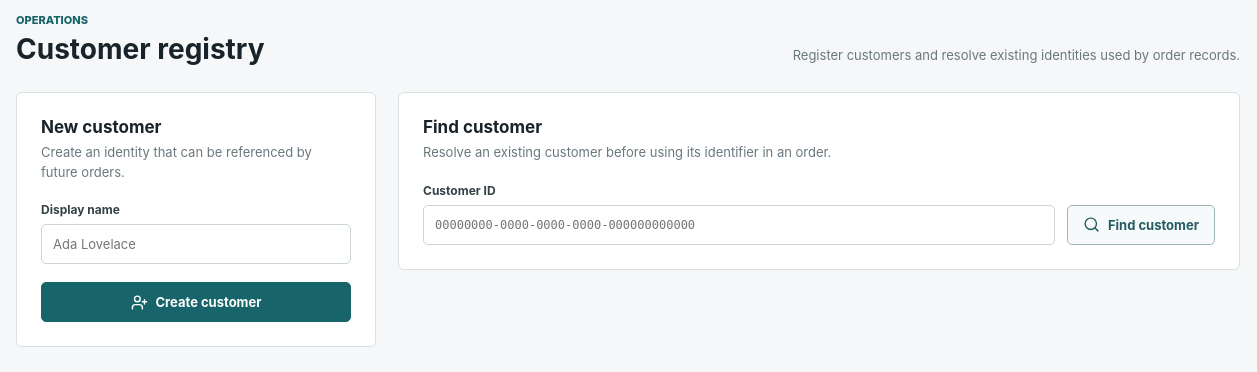
Test: customers page › validates an identifier before resolving the customer
Type "not-a-guid" into the field named "lookupCustomerId" at (739, 224), box [423,204,1055,244]
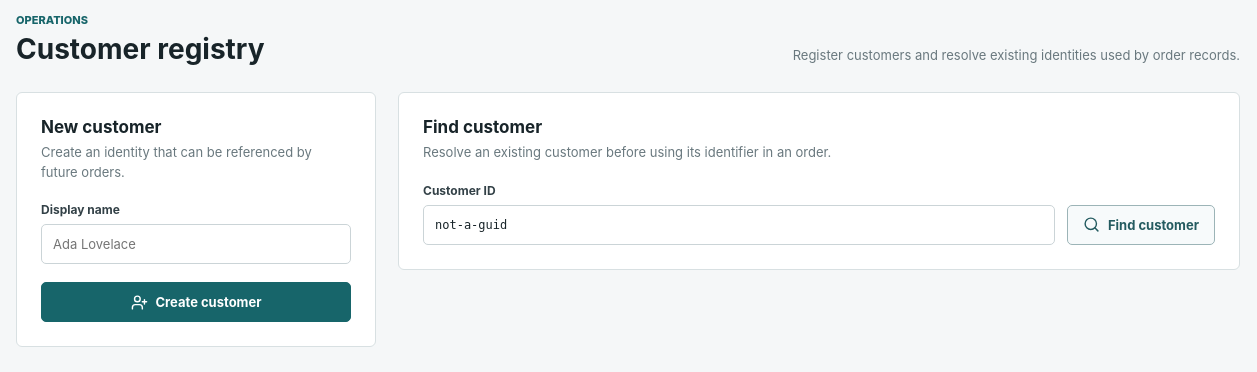
Submit the form with class "customer-lookup__form", box [423,182,1215,244]
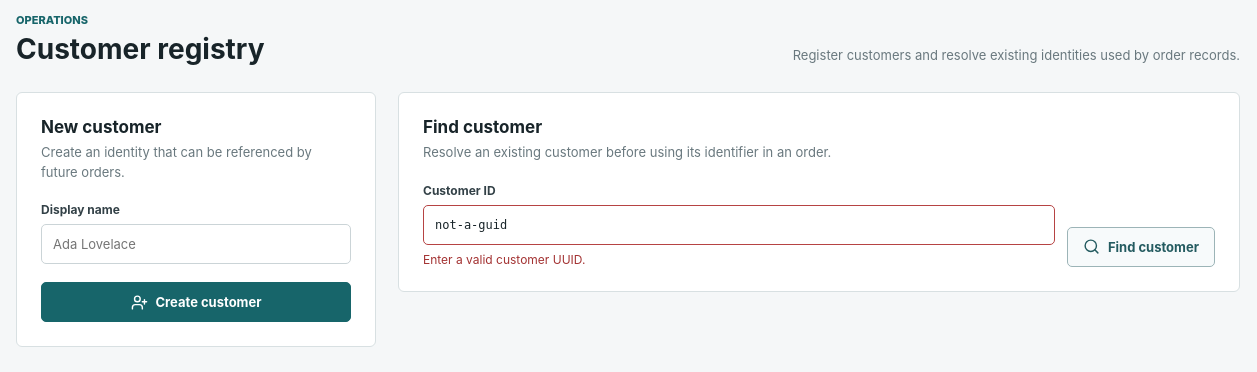
Expected: the text "Enter a valid customer UUID." is shown, [423,252,585,266]
Replace the text in the field named "lookupCustomerId" with "20000000-0000-4000-8000-000000000001" at (739, 224), box [423,204,1055,244]
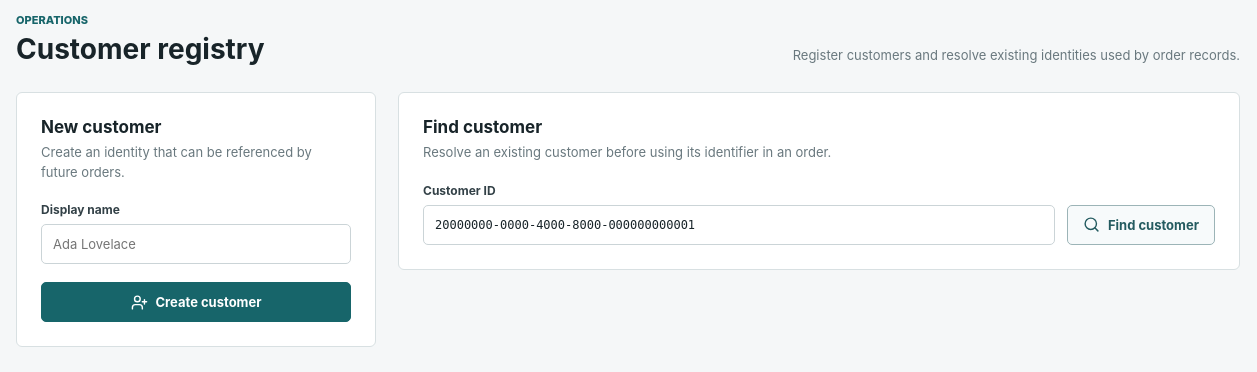
Submit the form with class "customer-lookup__form", box [423,182,1215,244]
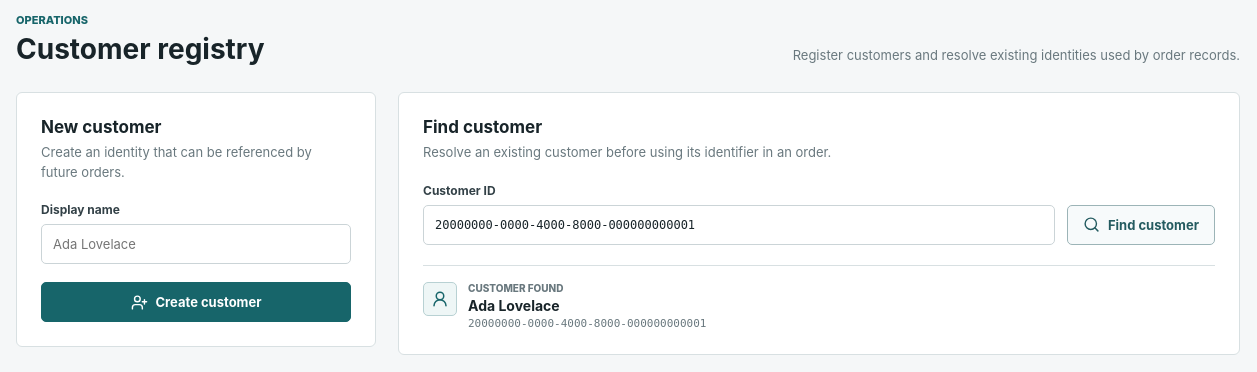
Expected: the text "Customer found" is shown, [468,282,564,294]
Expected: the text "Ada Lovelace" is shown, [468,296,560,314]
